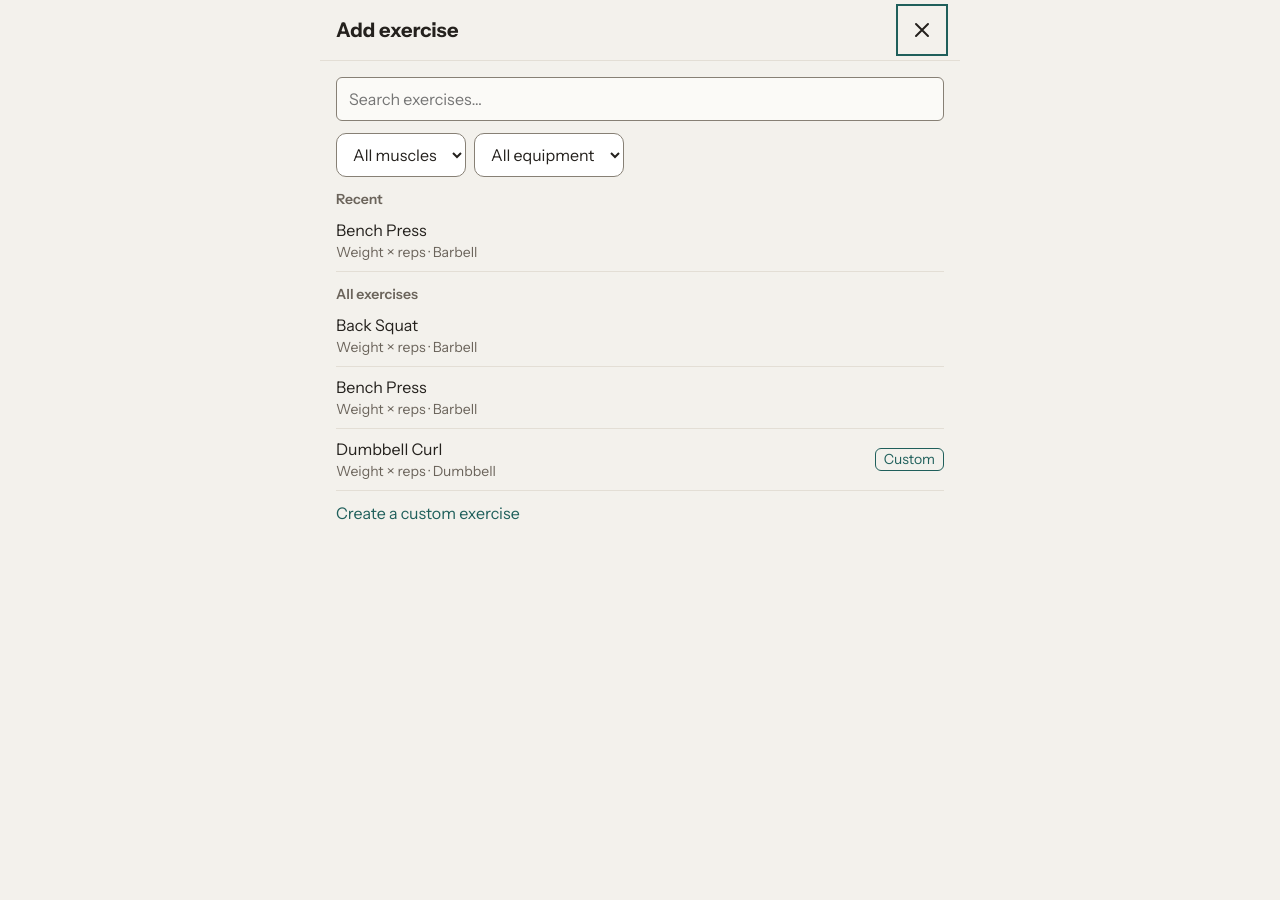
Scenario: AC25 — picker layout › hides recents entirely while a filter is active
The width and height of the screenshot is (1280, 900).
Select "Legs" in the dropdown named "Muscle" at (401, 155), box [336,133,466,177]
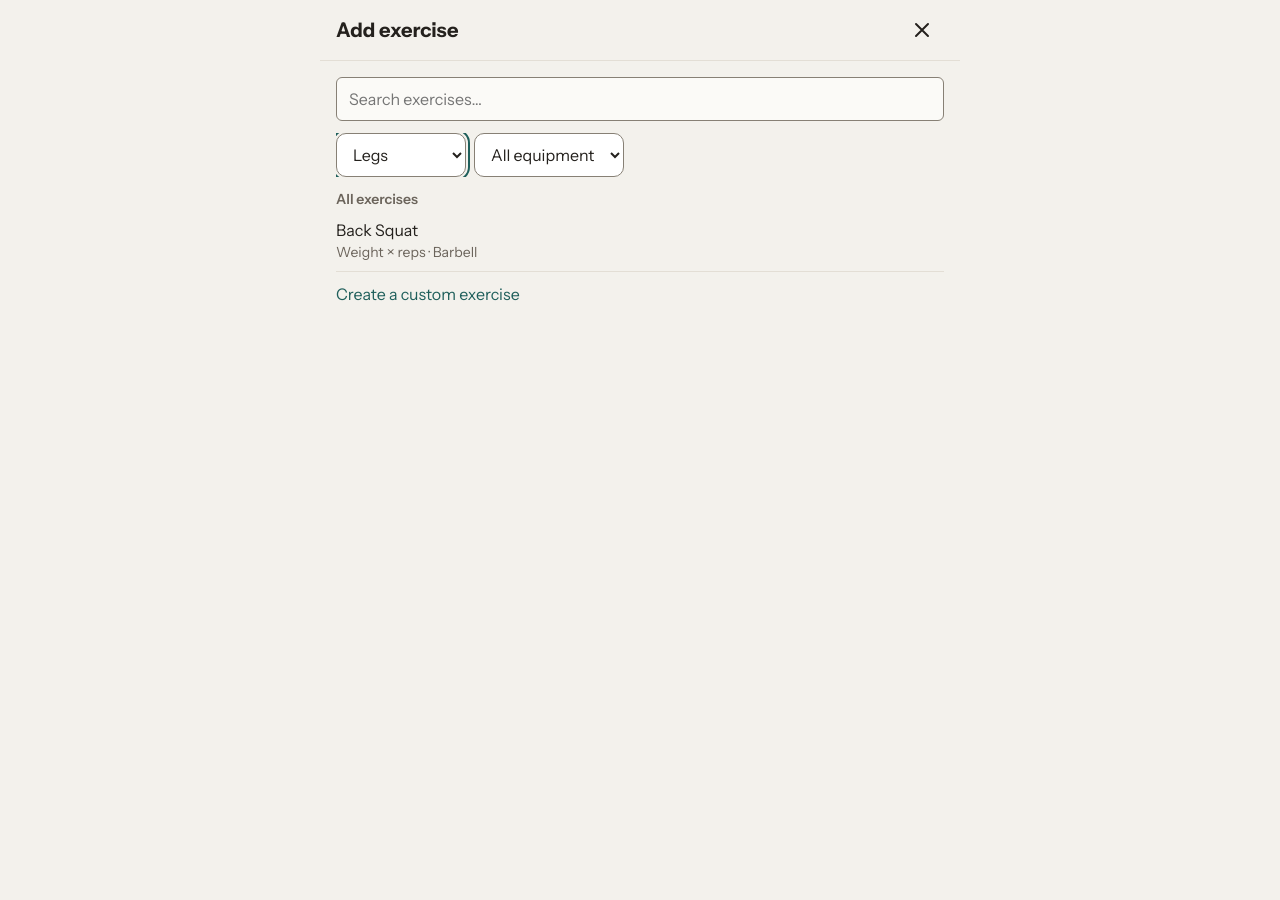
Expected: the button "Back Squat Weight × reps · Barbell" is shown, [336,210,944,272]
Expected: the heading "Recent" is gone
Expected: the button "Bench Press" is gone
